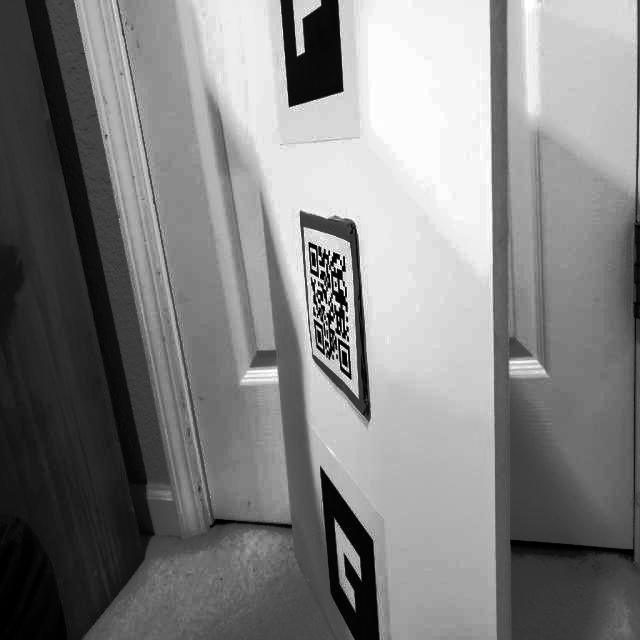qr_code: (304, 233, 366, 388)
